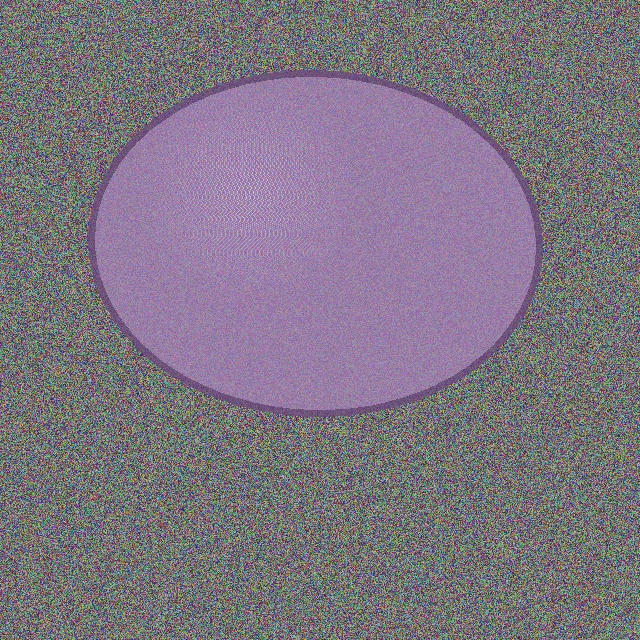lens: (91, 73, 539, 413)
